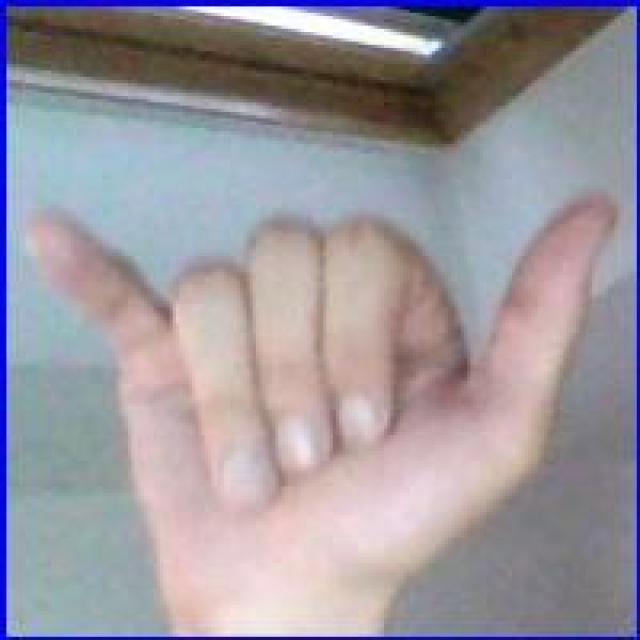Y: (11, 189, 616, 566)
